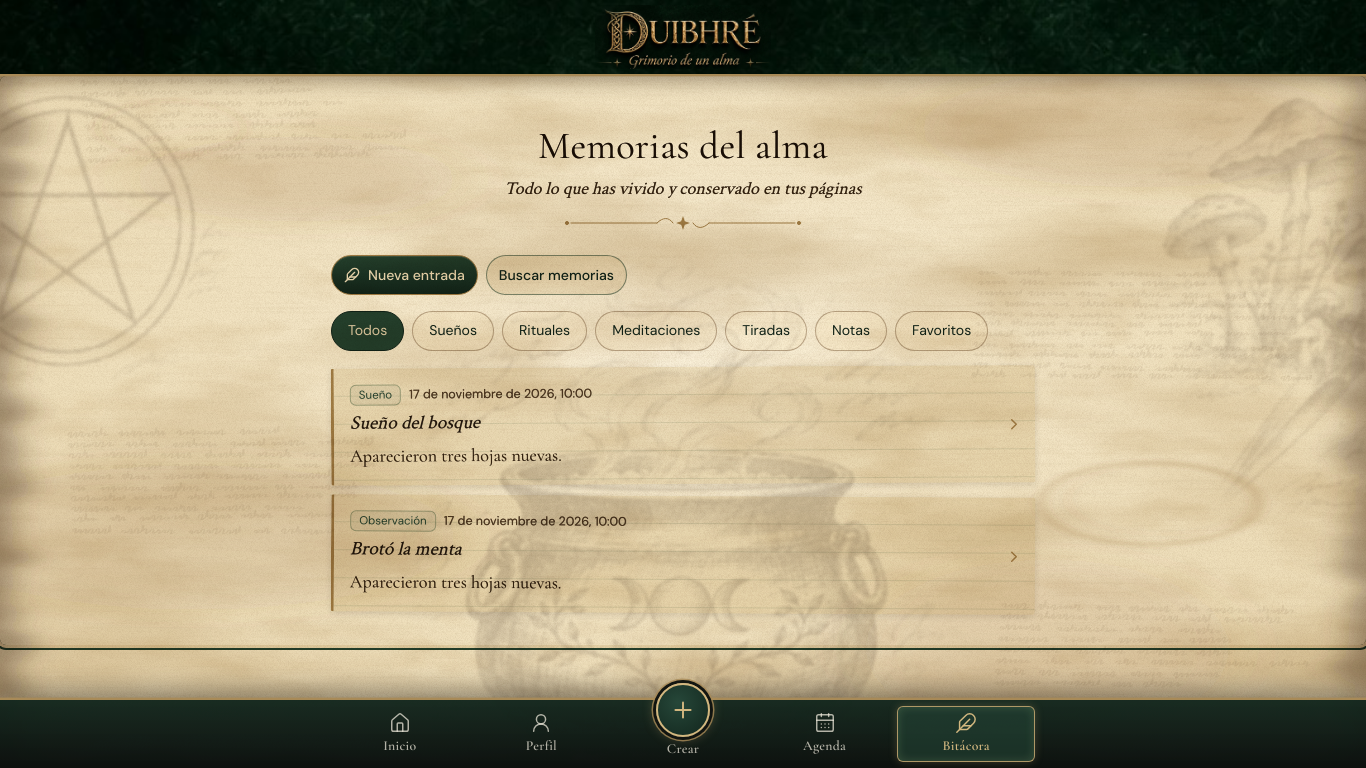
Test: flujo de notas › la Bitácora filtra por tipo
The image size is (1366, 768).
Expected: the text "Sueño del bosque" is shown, [350, 410, 480, 436]
Click the button "Sueños".
click(453, 331)  # box [412, 311, 494, 351]
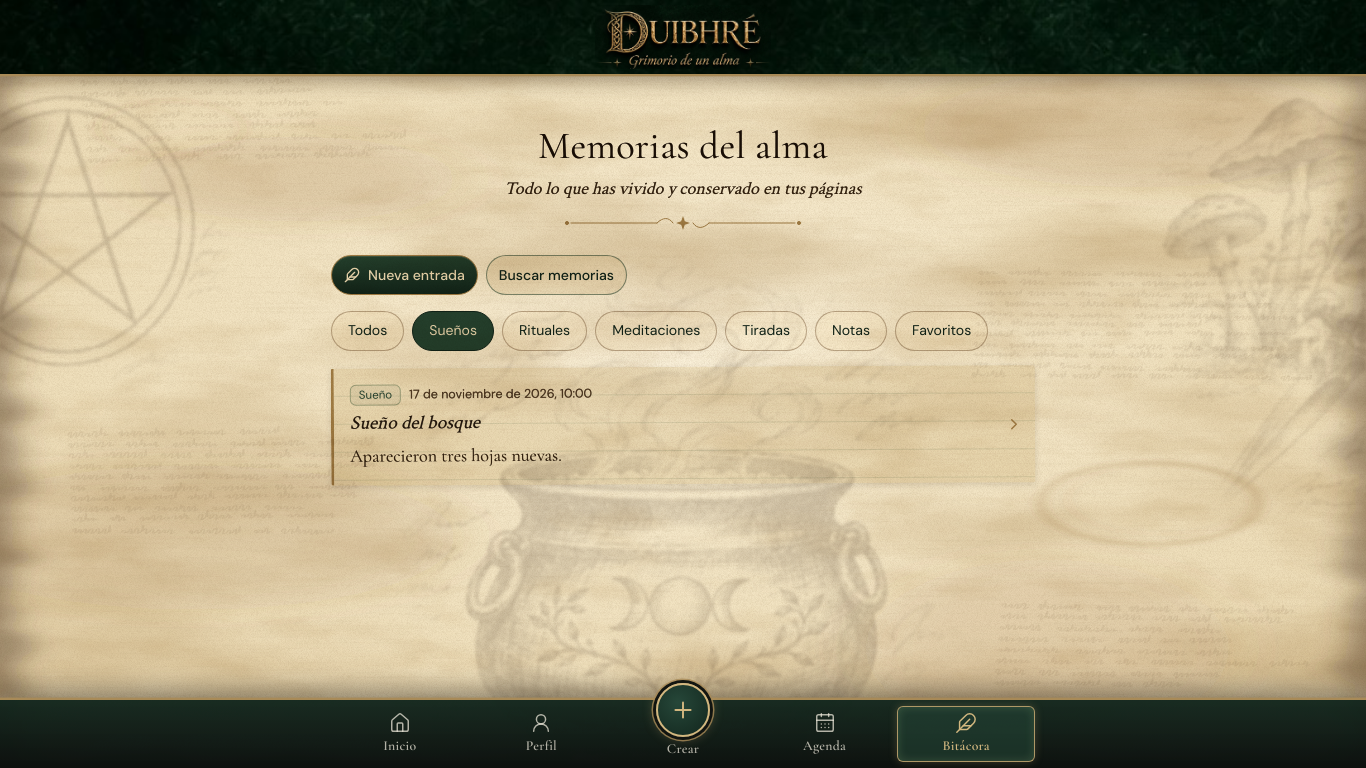
Expected: the text "Sueño del bosque" is shown, [350, 410, 480, 436]
Result: the link "Brotó la menta" is gone
